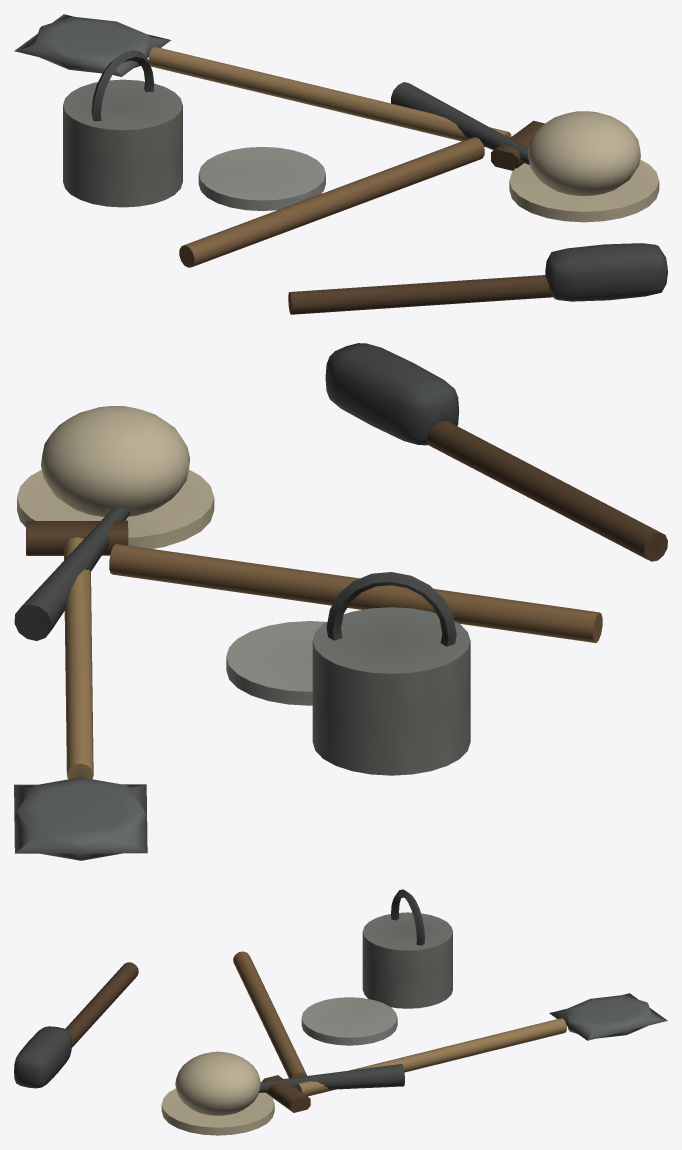
The model's file is tool_drop_a.glb.
3 renders of one model, top to bottom at view 1: azimuth 30°, elevation 25°; view 2: azimuth 150°, elevation 25°; view 3: azimuth 270°, elevation 25°, orthographic. The views are drawn at different scales.
Parts seen in each view (by area): view 1: Surface; view 2: Surface; view 3: Surface.
Part boxes in pixels (box(x1,y1,x2,y2)): Surface: box(14, 14, 667, 314); Surface: box(14, 343, 667, 860); Surface: box(14, 889, 667, 1135).
Bounding box in the file's own units: 1.35 × 0.3684 × 2.24.
